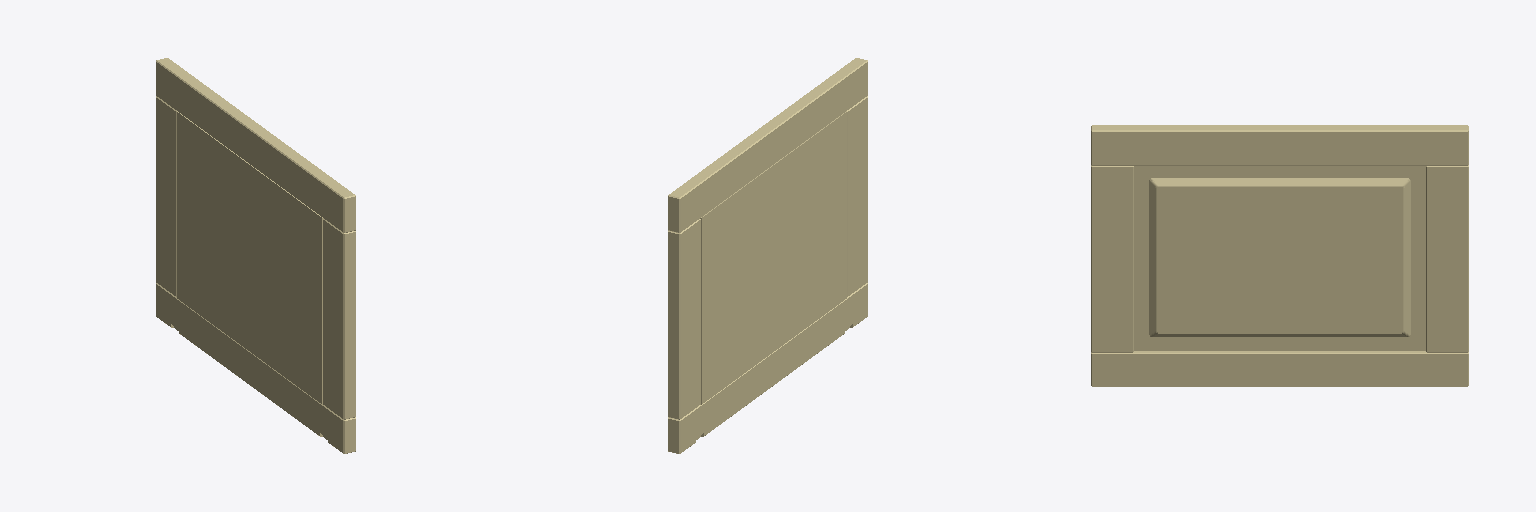
File: door_left.obj
The picture shows the model from 3 angles: view 1: azimuth 30°, elevation 25°; view 2: azimuth 150°, elevation 25°; view 3: azimuth 270°, elevation 25°; orthographic projection.
Parts seen in each view (by area): view 1: door_left; view 2: door_left; view 3: door_left.
Boxes of the visible parts, x1,y1,x2,y2 form: door_left: [156, 58, 355, 453]; door_left: [668, 58, 867, 453]; door_left: [1091, 125, 1468, 386].
Size of the model in its own units: 0.02 by 0.381 by 0.5079.